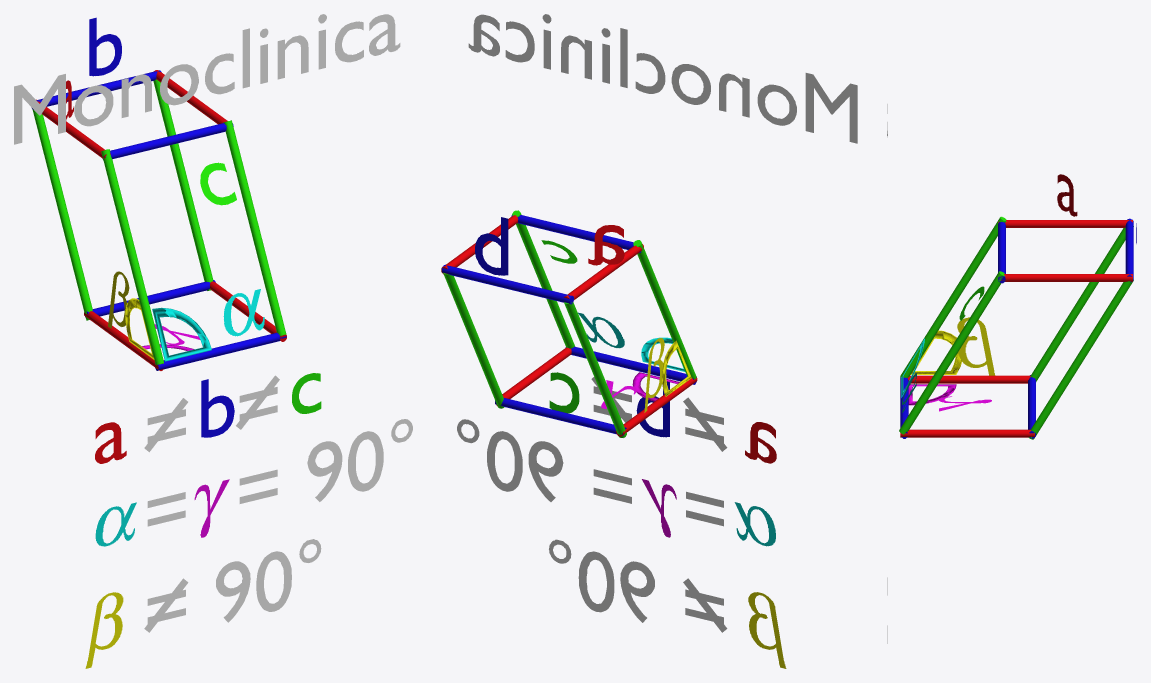
Rendered from monoclinica.obj.glb.
The picture shows the model from 3 angles, left to right: view 1: azimuth 30°, elevation 25°; view 2: azimuth 150°, elevation 25°; view 3: azimuth 270°, elevation 25°; orthographic projection. The views are drawn at different scales.
Visible parts, largest first — view 1: Text.133_Text.096, Text.083_Text.084, Text.084_Text.094, Cylinder.083_Cylinder.107, Cylinder.075_Cylinder.099, Cylinder.081_Cylinder.105, Cylinder.078_Cylinder.102, Cylinder.074_Cylinder.098, Cylinder.073_Cylinder.097, Sphere.063_Sphere.101, Text.075_Text.076, Text.073_Text.074 (+14 smaller); view 2: Text.133_Text.096, Text.083_Text.084, Text.084_Text.094, Cylinder.081_Cylinder.105, Cylinder.078_Cylinder.102, Cylinder.080_Cylinder.104, Cylinder.083_Cylinder.107, Cylinder.075_Cylinder.099, Cylinder.079_Cylinder.103, Cylinder.074_Cylinder.098, Text.073_Text.074, Cylinder.073_Cylinder.097 (+7 smaller); view 3: Cylinder.075_Cylinder.099, Cylinder.078_Cylinder.102, Cylinder.083_Cylinder.107, Cylinder.081_Cylinder.105, Cylinder.076_Cylinder.100, Cylinder.077_Cylinder.101, Cylinder.084_Cylinder.108, Cylinder.082_Cylinder.106, Text.088_Text.089, Sphere.064_Sphere.102, Cylinder.080_Cylinder.104, Cylinder.074_Cylinder.098 (+2 smaller).
Boxes of the visible parts, x1=… form: Text.133_Text.096: x1=14, y1=14, x2=400, y2=144; Text.083_Text.084: x1=239, y1=419, x2=412, y2=503; Text.084_Text.094: x1=147, y1=539, x2=321, y2=623; Cylinder.083_Cylinder.107: x1=101, y1=149, x2=163, y2=365; Cylinder.075_Cylinder.099: x1=223, y1=120, x2=286, y2=335; Cylinder.081_Cylinder.105: x1=32, y1=109, x2=92, y2=320; Cylinder.078_Cylinder.102: x1=153, y1=79, x2=213, y2=290; Cylinder.074_Cylinder.098: x1=102, y1=123, x2=233, y2=159; Cylinder.073_Cylinder.097: x1=155, y1=332, x2=286, y2=370; Sphere.063_Sphere.101: x1=152, y1=307, x2=211, y2=361; Text.075_Text.076: x1=201, y1=379, x2=234, y2=437; Text.073_Text.074: x1=89, y1=17, x2=121, y2=76; Text.133_Text.096: x1=468, y1=14, x2=857, y2=143; Text.083_Text.084: x1=457, y1=419, x2=631, y2=503; Text.084_Text.094: x1=549, y1=539, x2=723, y2=623; Cylinder.081_Cylinder.105: x1=564, y1=302, x2=626, y2=437; Cylinder.078_Cylinder.102: x1=443, y1=273, x2=504, y2=408; Cylinder.080_Cylinder.104: x1=442, y1=264, x2=574, y2=304; Cylinder.083_Cylinder.107: x1=633, y1=240, x2=696, y2=379; Cylinder.075_Cylinder.099: x1=512, y1=210, x2=575, y2=348; Cylinder.079_Cylinder.103: x1=495, y1=398, x2=626, y2=435; Cylinder.074_Cylinder.098: x1=511, y1=215, x2=641, y2=252; Text.073_Text.074: x1=475, y1=217, x2=508, y2=275; Cylinder.073_Cylinder.097: x1=565, y1=346, x2=696, y2=384; Cylinder.075_Cylinder.099: x1=899, y1=271, x2=1004, y2=434; Cylinder.078_Cylinder.102: x1=1028, y1=280, x2=1133, y2=439; Cylinder.083_Cylinder.107: x1=900, y1=216, x2=1006, y2=377; Cylinder.081_Cylinder.105: x1=1030, y1=226, x2=1133, y2=381; Cylinder.076_Cylinder.100: x1=900, y1=429, x2=1034, y2=437; Cylinder.077_Cylinder.101: x1=1000, y1=274, x2=1132, y2=281; Cylinder.084_Cylinder.108: x1=998, y1=220, x2=1132, y2=227; Cylinder.082_Cylinder.106: x1=907, y1=375, x2=1030, y2=383; Text.088_Text.089: x1=957, y1=317, x2=995, y2=375; Sphere.064_Sphere.102: x1=910, y1=330, x2=961, y2=374; Cylinder.080_Cylinder.104: x1=1125, y1=218, x2=1133, y2=282; Cylinder.074_Cylinder.098: x1=998, y1=222, x2=1005, y2=283.
Size of the model in its own units: 1.68 by 2.41 by 0.996.
